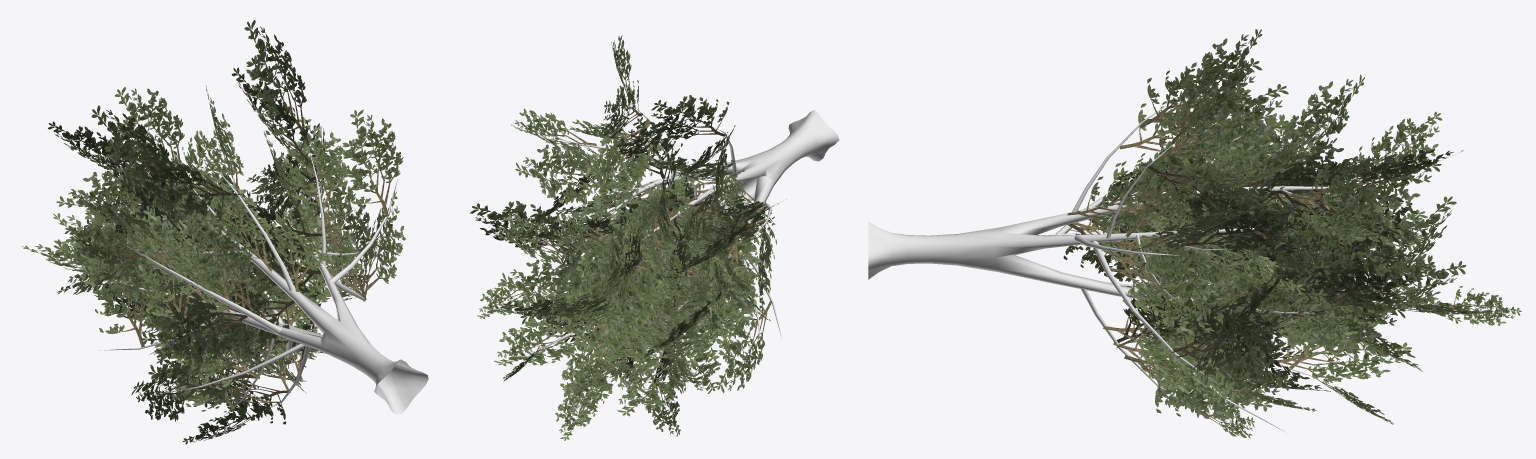
The model's file is wit_04.fbx.
The picture shows the model from 3 angles, left to right: view 1: azimuth 30°, elevation 25°; view 2: azimuth 150°, elevation 25°; view 3: azimuth 270°, elevation 25°; orthographic projection. The views are drawn at different scales.
Parts seen in each view (by area): view 1: Circle; view 2: Circle; view 3: Circle.
Part boxes in pixels (box(x1,y1,x2,y2)): Circle: box(21, 20, 428, 444); Circle: box(470, 35, 839, 440); Circle: box(868, 29, 1521, 438).
Size of the model in its own units: 1604 by 1898 by 2439.
2 materials, 1 textured.
